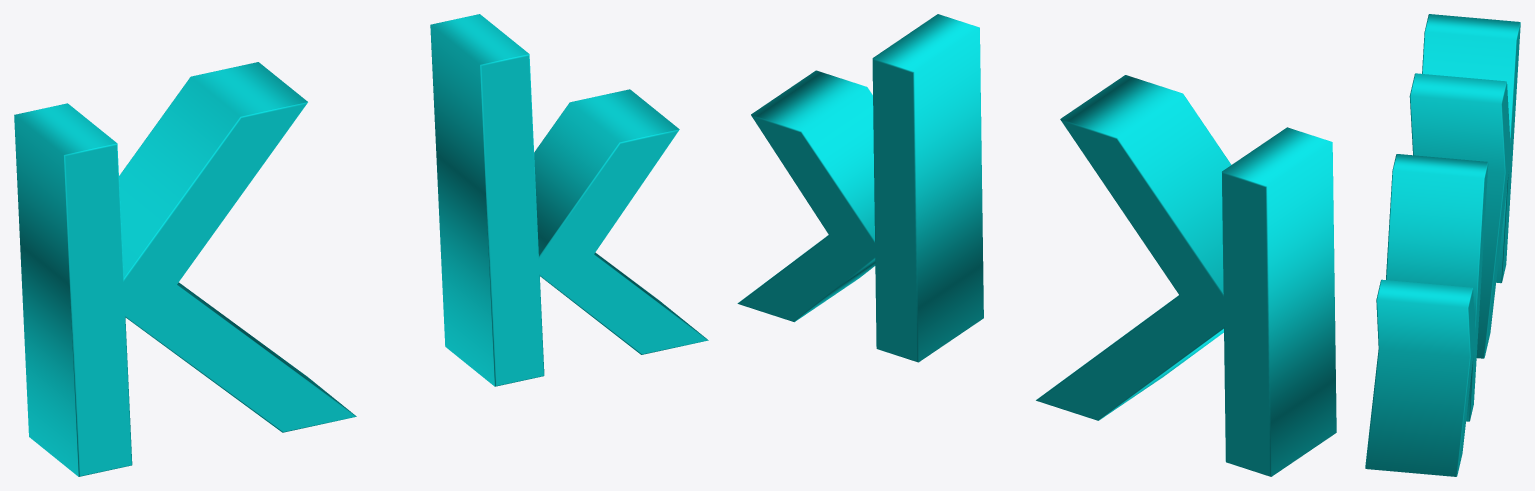
File: ObjectK.fbx
The picture shows the model from 3 angles, left to right: view 1: azimuth 30°, elevation 25°; view 2: azimuth 150°, elevation 25°; view 3: azimuth 270°, elevation 25°; orthographic projection. The views are drawn at different scales.
Visible parts, largest first — view 1: Text; view 2: Text; view 3: Text.
Boxes of the visible parts, <box> form: Text: <box>14,14,708,476</box>; Text: <box>737,14,1336,476</box>; Text: <box>1365,14,1520,476</box>.
Size of the model in its own units: 357 by 185 by 103.
